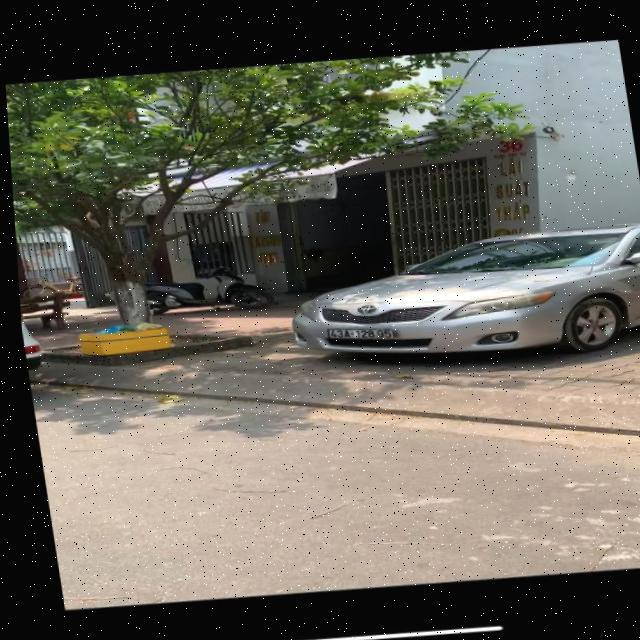car: (280, 213, 640, 388)
plate: (324, 316, 407, 353)
